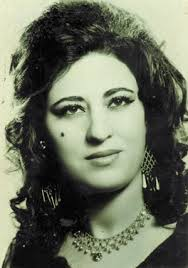middle_eastern_Female: (32, 34, 158, 198)
